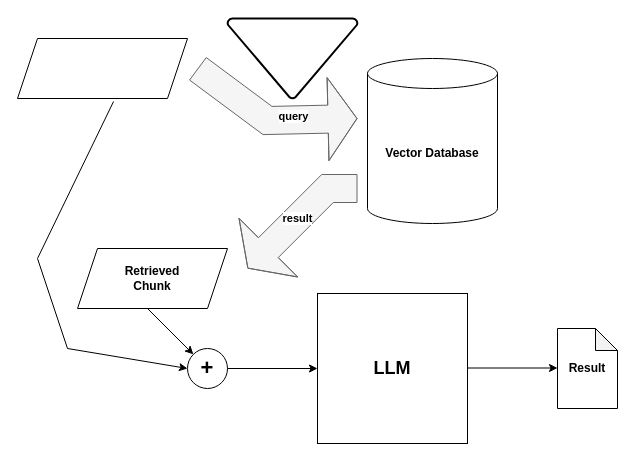
The diagram is 635 pixels wide and 461 high, and some of its shapes have lost their labels. The shapes that lost their labels are listed below. From the top down, each one's box as (x1, y1, x2, y2) in pixels, then its label:
(16, 38, 188, 98): Prompt Text
(226, 17, 358, 99): Compute Embedding
